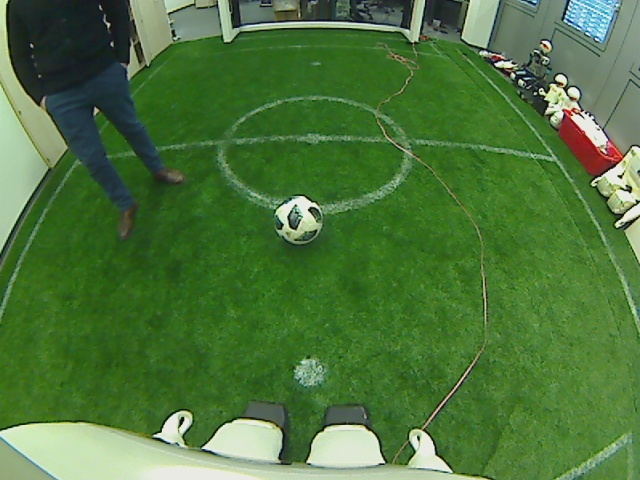ball: (273, 195, 323, 243)
